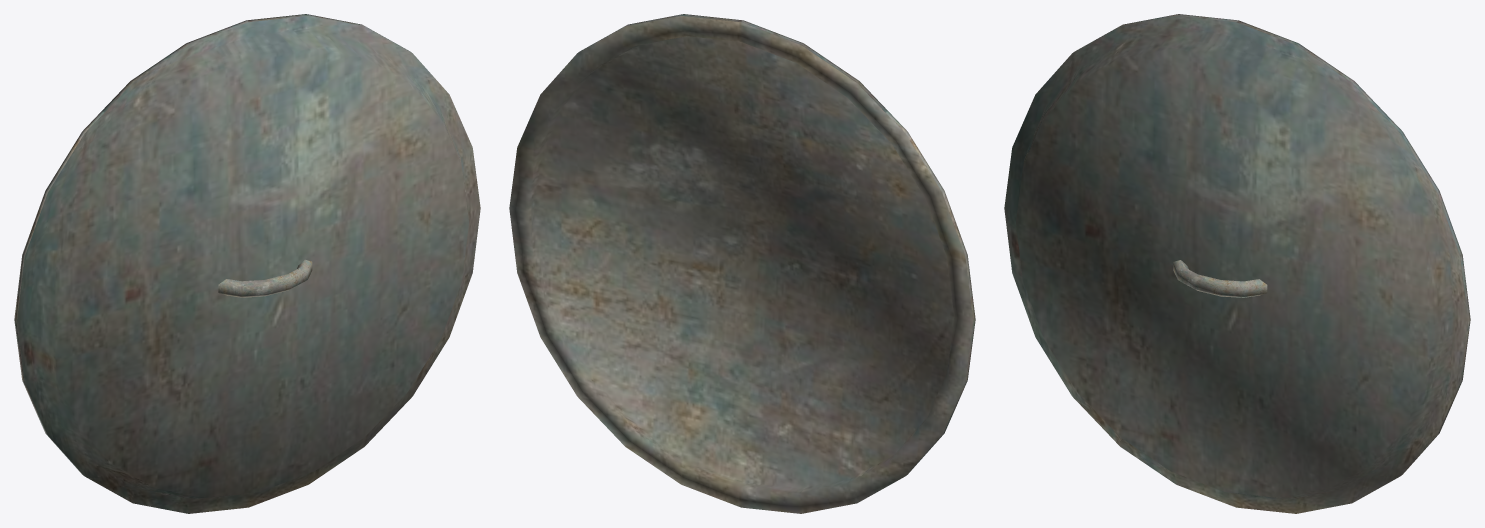
Rendered from prop_kitchenmetalpotlid.glb.
The picture shows the model from 3 angles, left to right: view 1: azimuth 30°, elevation 25°; view 2: azimuth 150°, elevation 25°; view 3: azimuth 330°, elevation 25°; orthographic projection.
Size of the model in its own units: 14.41 by 14.41 by 1.75.
1 material, 1 textured.
